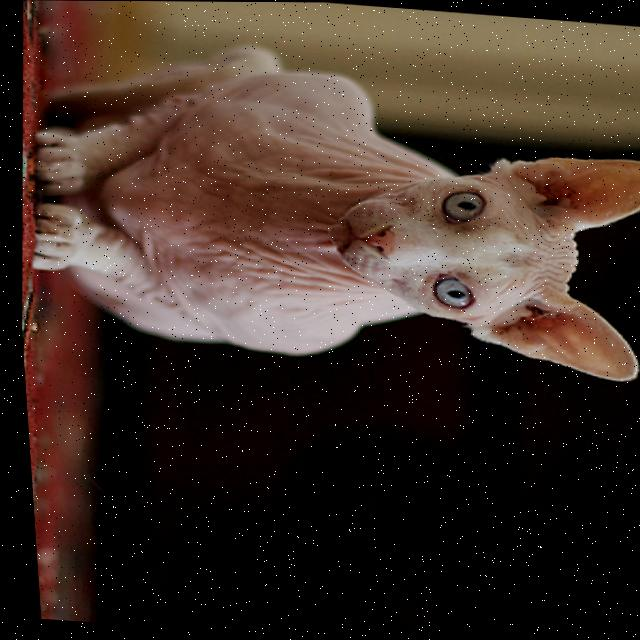Sphynx: (1, 28, 640, 388)
